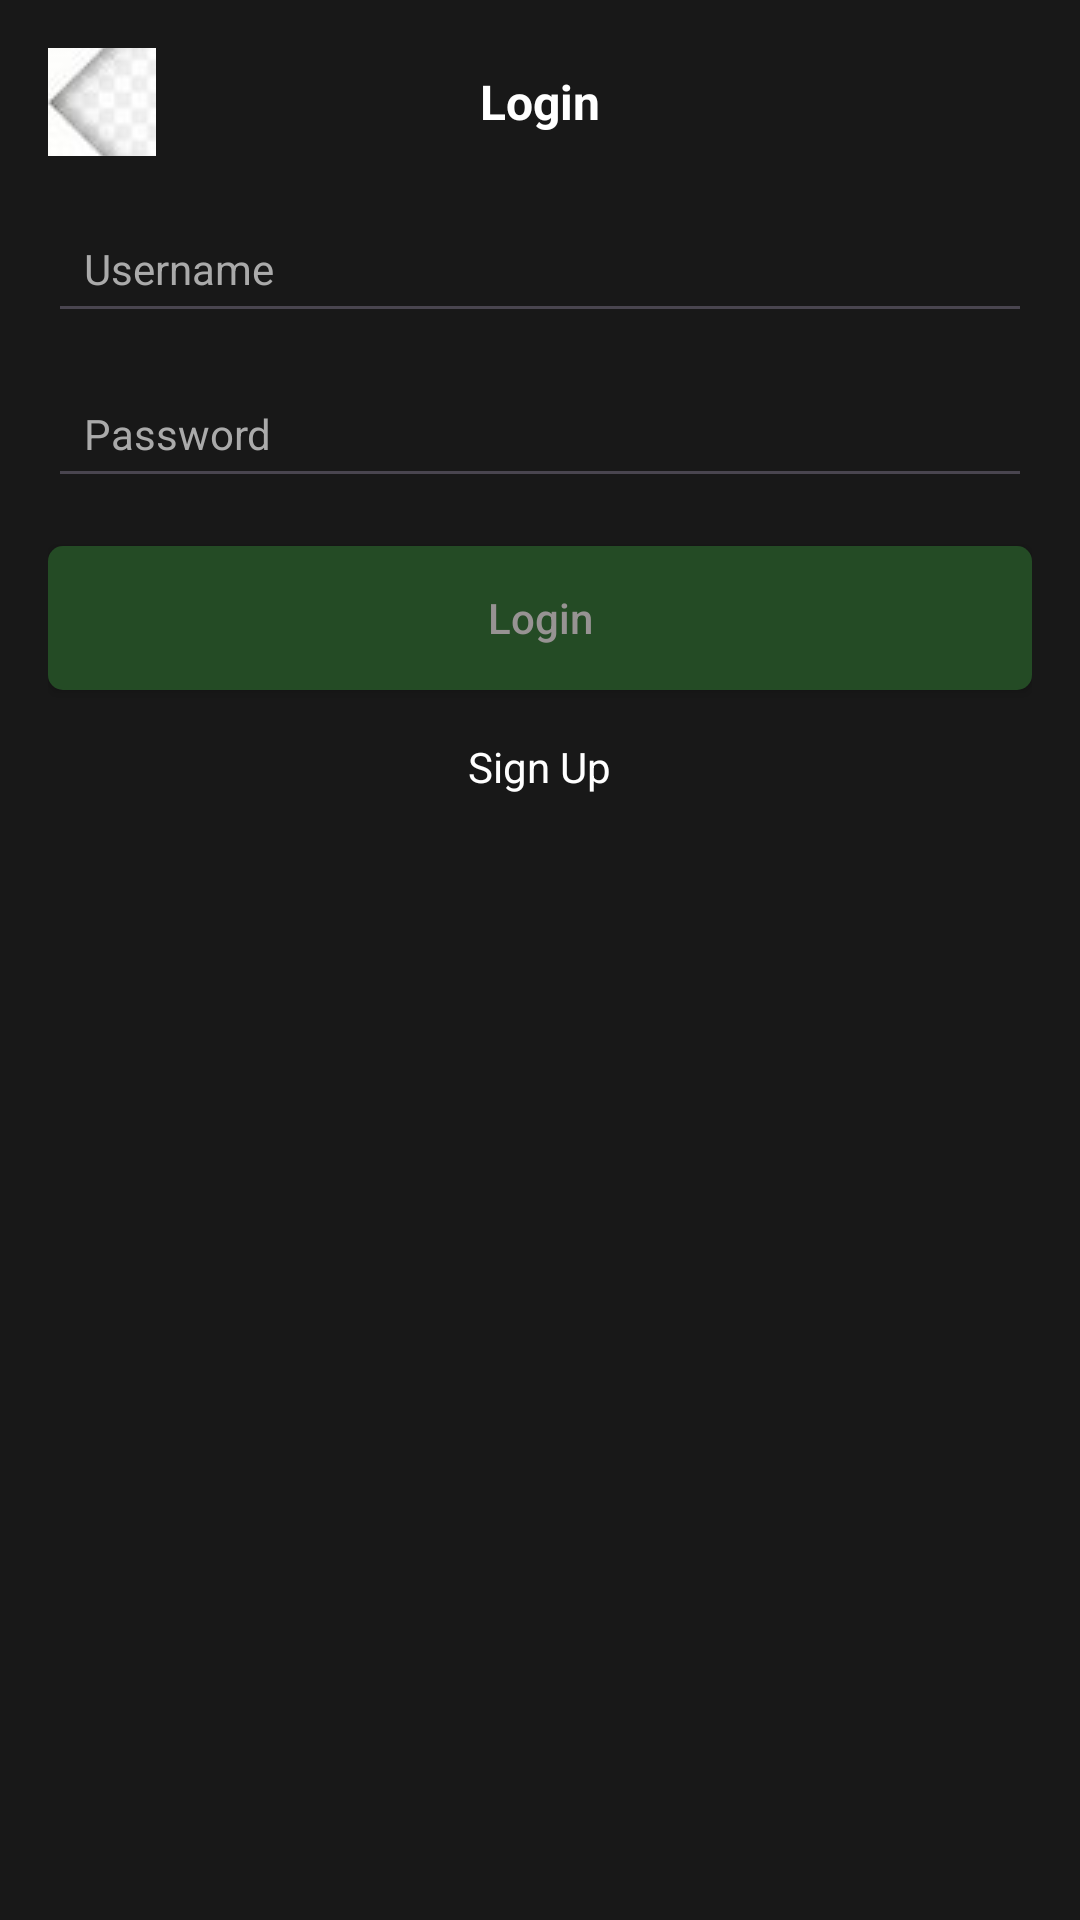

Icon click points for this 1080px×1920px phone screenshot, format point (x, y):
Back: point (102, 102)
